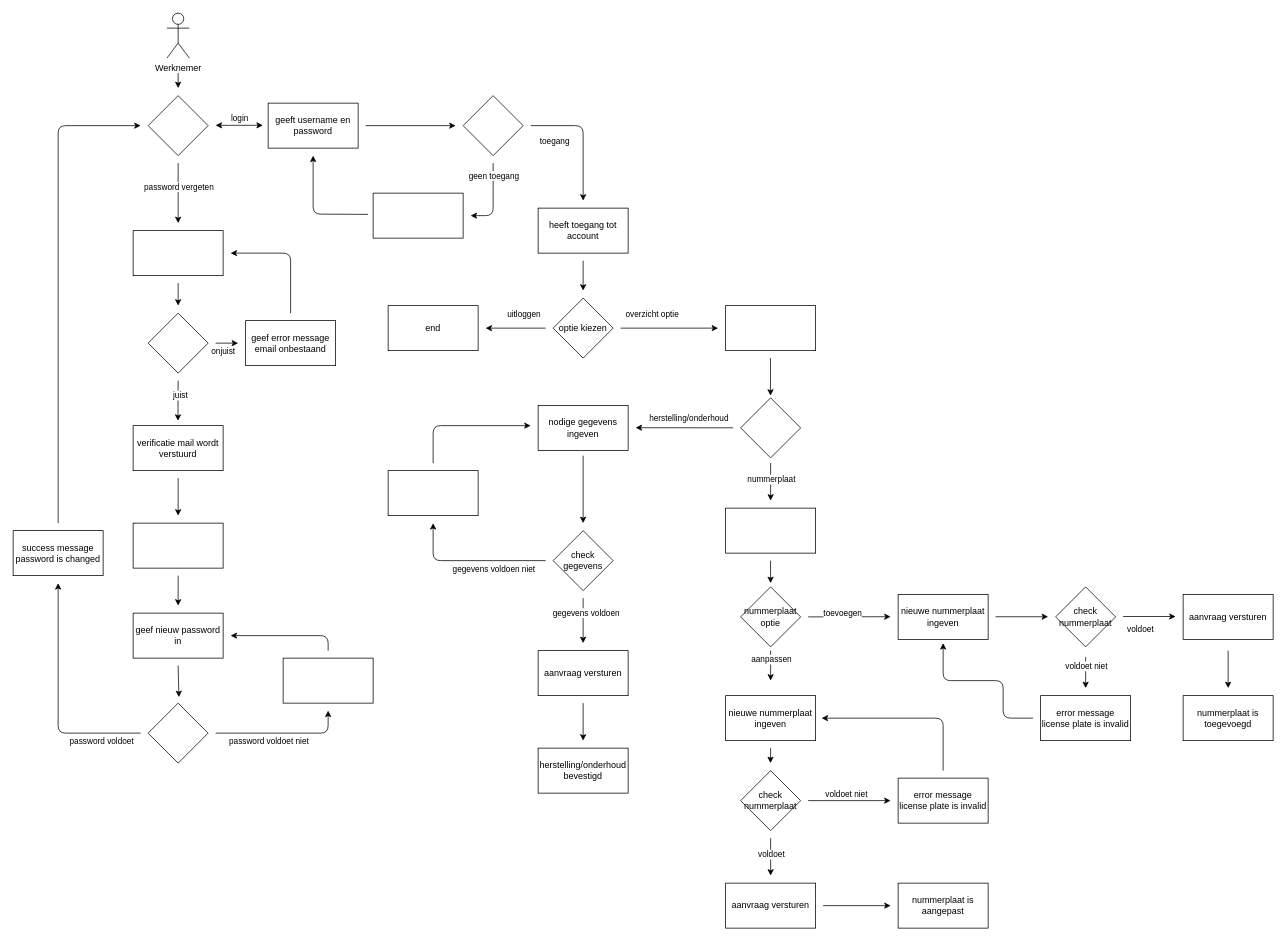
Some shapes in this 1286 by 941 pixel diagram are drawn without their labels. The centre of each missing label's shape, as x and y in pixels:
aanvraag: point 770,427
activeer mail: point 177,545
auto overzicht: point 770,328
check email: point 177,342
check login: point 492,125
check password: point 177,732
error message info missing: point 432,493
error message password not strong enough: point 327,680
geeft email in: point 177,253
login keuze: point 177,125
nummerplaat overzicht: point 770,530
toon error message onjuiste login: point 417,215
